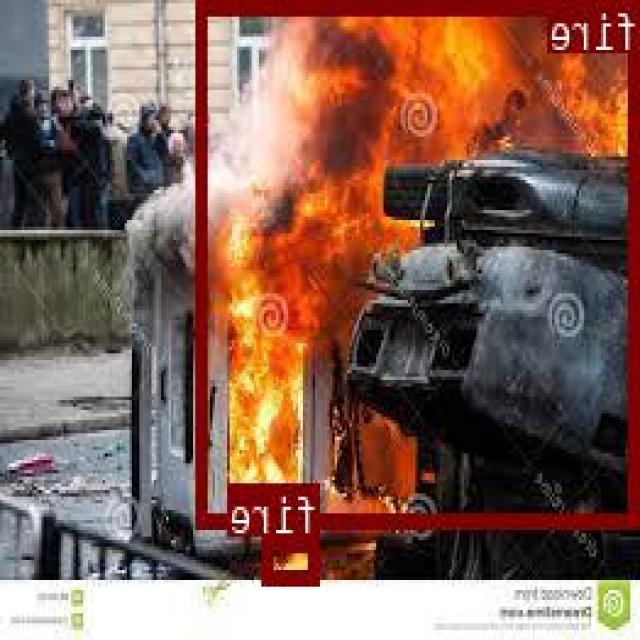fire: (201, 0, 640, 523), (265, 534, 322, 582)
